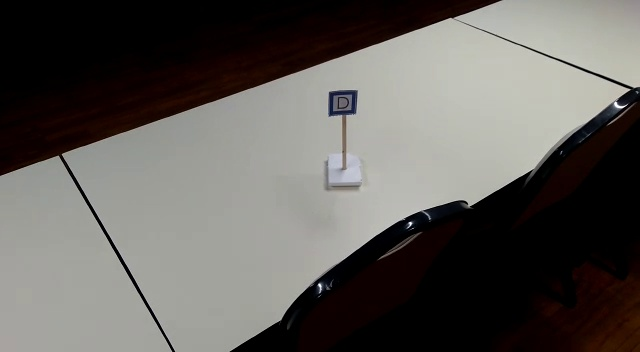durak: (327, 90, 356, 116)
